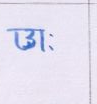aa_matra: (40, 31, 44, 51)
